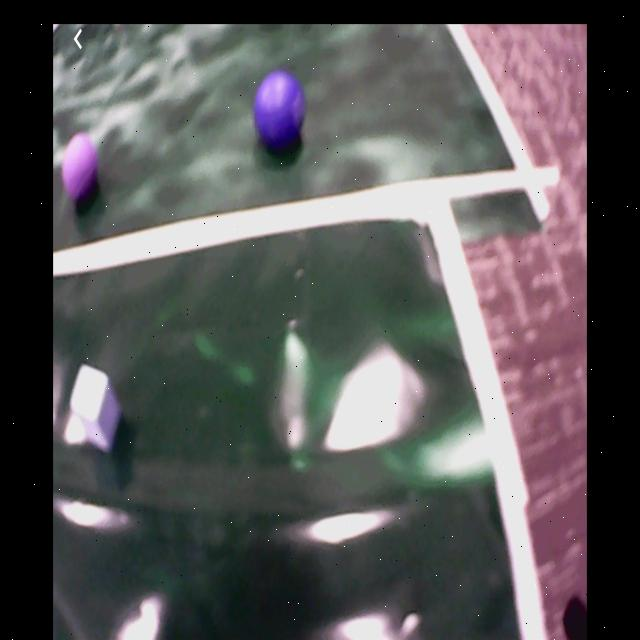ball: (255, 73, 306, 155), (63, 138, 103, 206)
